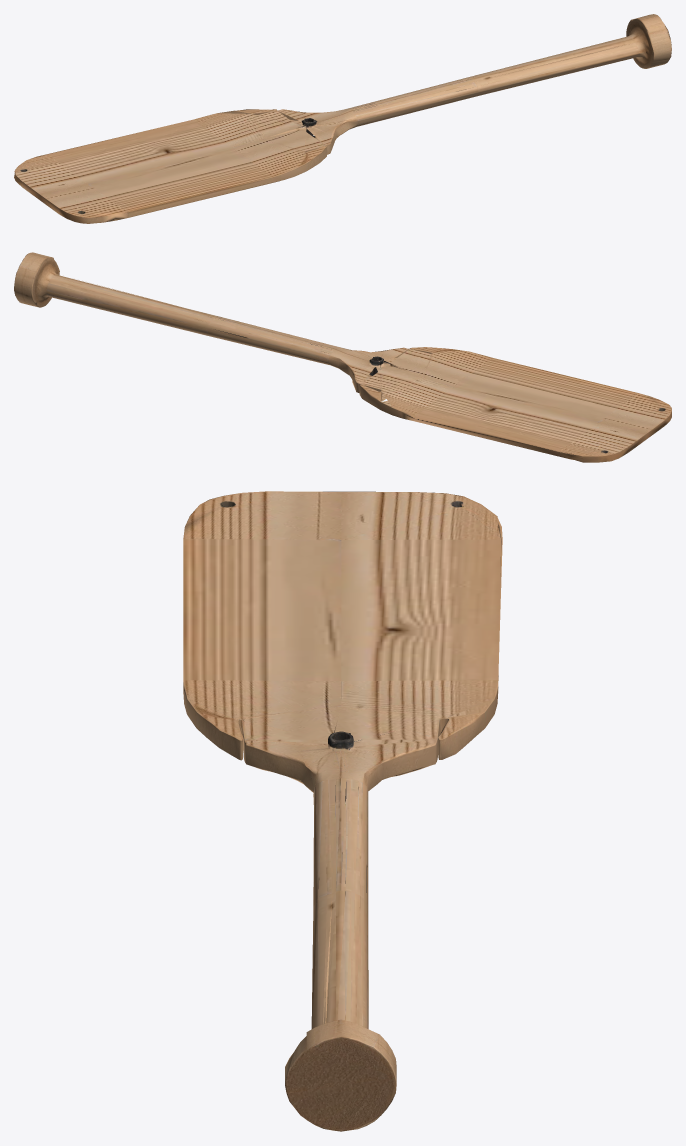
The model's file is paddle.glb.
The picture shows the model from 3 angles, top to bottom: view 1: azimuth 30°, elevation 25°; view 2: azimuth 150°, elevation 25°; view 3: azimuth 270°, elevation 25°; orthographic projection. The views are drawn at different scales.
Bounding box in the file's own units: 1.3 × 0.0965 × 0.2907.
Materials: 1 (1 with a texture image).
